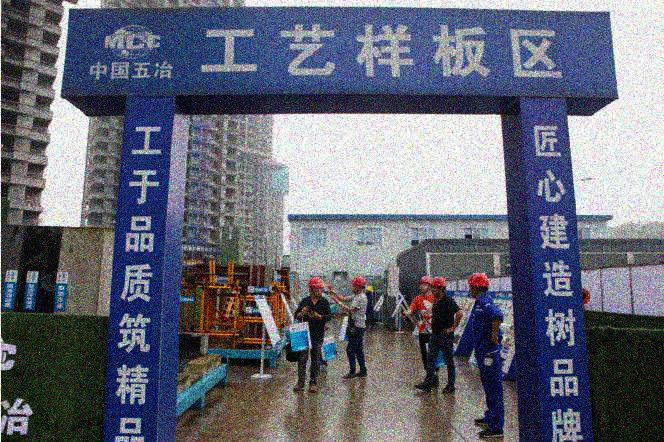helmet: (466, 273, 491, 299), (306, 275, 323, 299), (430, 276, 448, 297), (419, 276, 433, 294), (350, 276, 365, 292), (366, 285, 374, 294)
